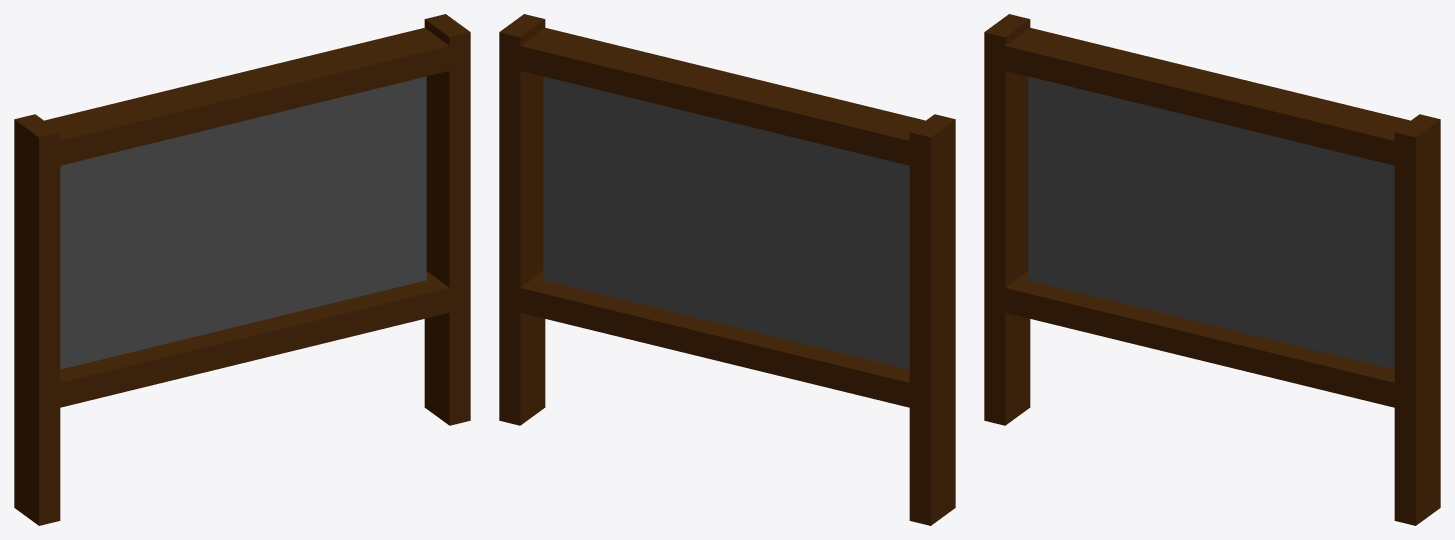
The model's file is Kiosk.glb.
The picture shows the model from 3 angles, left to right: view 1: azimuth 30°, elevation 25°; view 2: azimuth 150°, elevation 25°; view 3: azimuth 330°, elevation 25°; orthographic projection.
Visible parts, largest first — view 1: Plane, Post2; view 2: Plane, Post2; view 3: Plane, Post2.
Part boxes in pixels (box(x1,y1,x2,y2)): Plane: box(60, 76, 426, 369); Post2: box(14, 14, 470, 525); Plane: box(543, 76, 909, 369); Post2: box(499, 14, 955, 525); Plane: box(1028, 76, 1394, 369); Post2: box(984, 14, 1440, 525).
Size of the model in its own units: 1 by 0.86 by 0.1.
